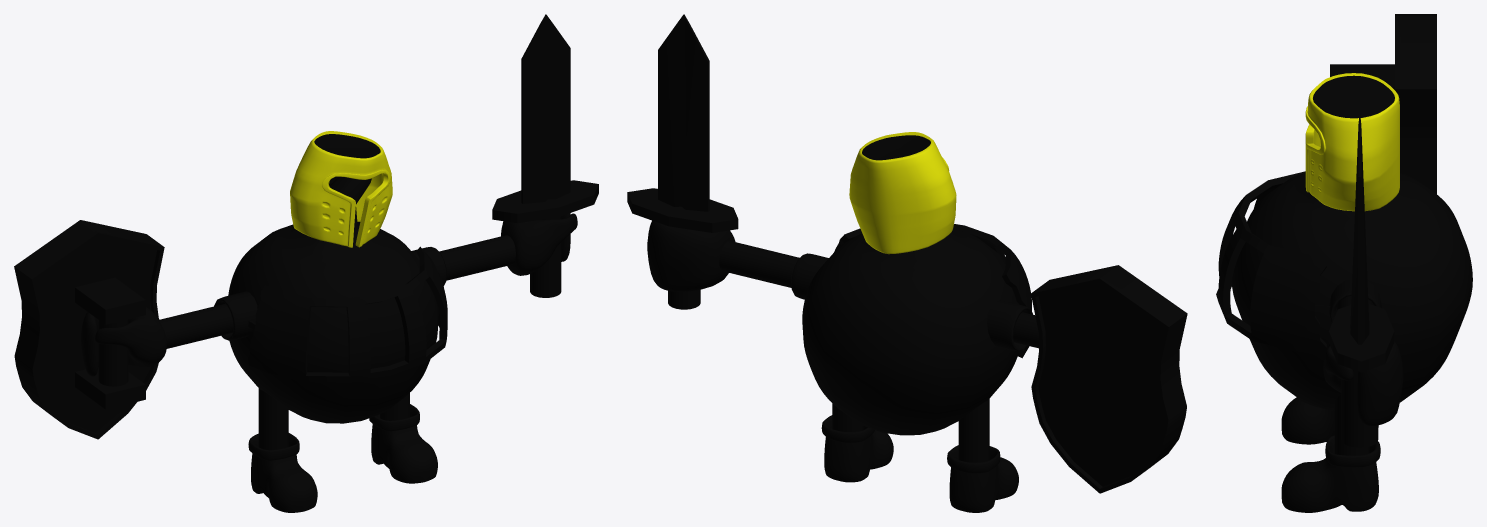
The model's file is OnionKnight.fbx.
3 views of the same model, side by side, from view 1: azimuth 30°, elevation 25°; view 2: azimuth 150°, elevation 25°; view 3: azimuth 270°, elevation 25° (orthographic). The views are drawn at different scales.
Parts seen in each view (by area): view 1: pCube15; view 2: pCube15; view 3: pCube15.
Part boxes in pixels (bbox=[...]): pCube15: bbox=[14, 14, 598, 512]; pCube15: bbox=[627, 14, 1187, 512]; pCube15: bbox=[1216, 14, 1472, 512].
Size of the model in its own units: 518 by 363 by 179.
